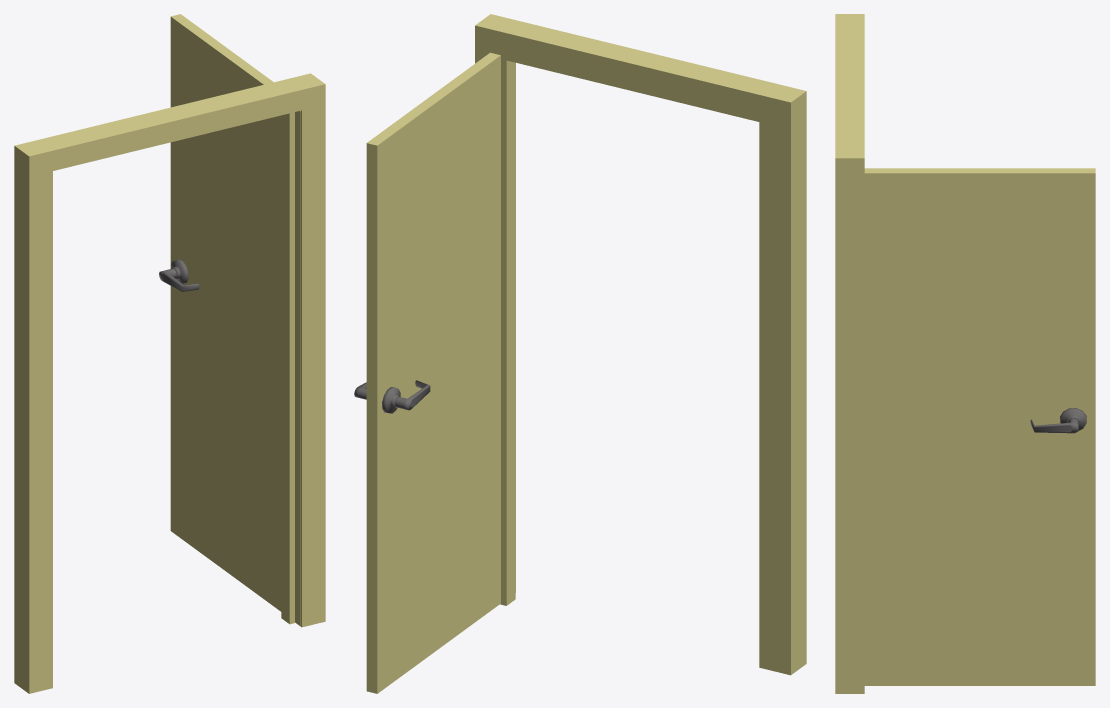
The model's file is Door.fbx.
3 views of the same model, side by side, from view 1: azimuth 30°, elevation 25°; view 2: azimuth 150°, elevation 25°; view 3: azimuth 270°, elevation 25° (orthographic). The views are drawn at different scales.
Parts seen in each view (by area): view 1: Door, DoorFrame; view 2: Door, DoorFrame; view 3: Door, DoorFrame.
Part boxes in pixels (bbox=[...]): Door: bbox=[159, 14, 300, 625]; DoorFrame: bbox=[14, 73, 325, 693]; Door: bbox=[354, 52, 515, 693]; DoorFrame: bbox=[475, 14, 806, 675]; Door: bbox=[864, 168, 1095, 685]; DoorFrame: bbox=[835, 14, 864, 693].
Bounding box in the file's own units: 139 × 237 × 104.
